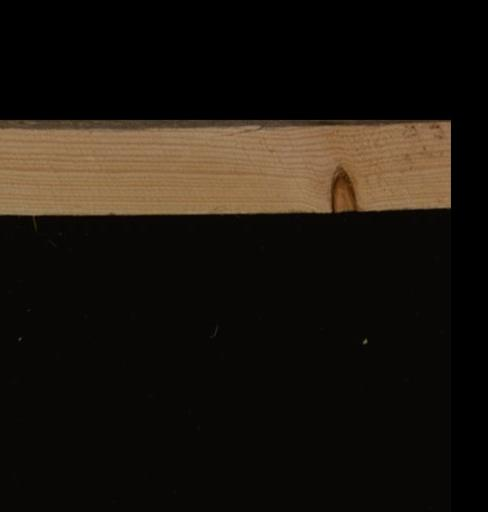edge_knot: (328, 163, 358, 212)
split: (217, 122, 266, 141)
